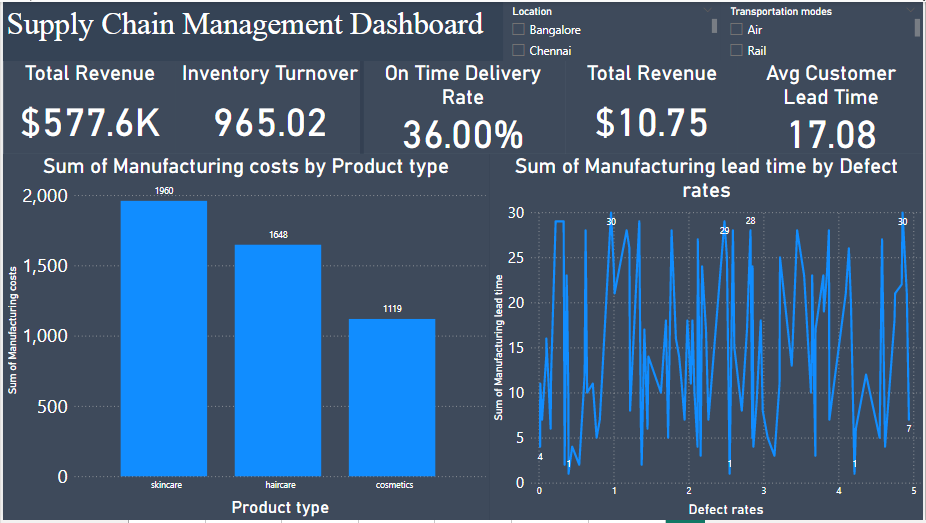

The page's visual inventory and layout, read from the dashboard file:
{"tool":"powerbi","page":{"name":"Page 6","canvas":[1280,720],"ordinal":5},"visuals":[{"type":"textbox","box":[0,0,695,82],"z":0},{"type":"card","title":"Total Revenue","fields":{"Values":["supply_chain_data.Total Revenue"]},"box":[1.4,82,239.1,129.3],"z":1000},{"type":"card","title":"Inventory Turnover","fields":{"Values":["supply_chain_data.Stock Turnover Rate"]},"box":[240.5,82,261.3,129.3],"z":2000},{"type":"card","title":"On Time Delivery Rate ","fields":{"Values":["supply_chain_data.Defect Rate"]},"box":[496.2,82,286.3,129.3],"z":3000},{"type":"card","title":"Total Revenue","fields":{"Values":["supply_chain_data.Cost per order"]},"box":[782.5,82,239.1,129.3],"z":4000},{"type":"card","title":"Avg Customer Lead Time","fields":{"Values":["Avg(supply_chain_data.Lead time)"]},"box":[1021.6,82,258.5,129.3],"z":5000},{"type":"slicer","fields":{"Values":["supply_chain_data.Location"]},"box":[695,0,303,82],"z":6000},{"type":"columnChart","fields":{"Category":["supply_chain_data.Product type"],"Y":["Sum(supply_chain_data.Manufacturing costs)"]},"box":[0,211.3,675.5,508.7],"z":7000},{"type":"lineChart","fields":{"Category":["supply_chain_data.Defect rates"],"Y":["Sum(supply_chain_data.Manufacturing lead time)"]},"box":[675.5,211.3,604.6,508.7],"z":8000},{"type":"slicer","fields":{"Values":["supply_chain_data.Transportation modes"]},"box":[997.8,0,282.2,82],"z":9000}]}

Visuals, with their boxes in screenshot pixels (x1, y1, x2, y2), scaled from the page's 1280x720 canvas onto the 926x523 screenshot:
textbox: [x1=0, y1=0, x2=503, y2=60]
"Total Revenue" card: [x1=1, y1=60, x2=174, y2=153]
"Inventory Turnover" card: [x1=174, y1=60, x2=363, y2=153]
"On Time Delivery Rate " card: [x1=359, y1=60, x2=566, y2=153]
"Total Revenue" card: [x1=566, y1=60, x2=739, y2=153]
"Avg Customer Lead Time" card: [x1=739, y1=60, x2=925, y2=153]
slicer - supply_chain_data.Location: [x1=503, y1=0, x2=722, y2=60]
columnChart - supply_chain_data.Product type x Sum(supply_chain_data.Manufacturing costs): [x1=0, y1=153, x2=489, y2=522]
lineChart - supply_chain_data.Defect rates x Sum(supply_chain_data.Manufacturing lead time): [x1=489, y1=153, x2=925, y2=522]
slicer - supply_chain_data.Transportation modes: [x1=722, y1=0, x2=925, y2=60]
